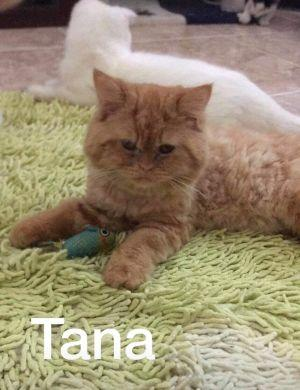persian: (77, 62, 217, 198)
